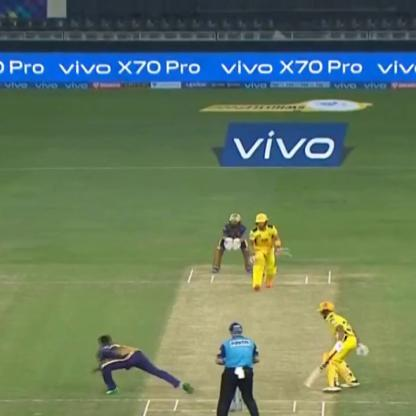pitch: (139, 256, 334, 416)
